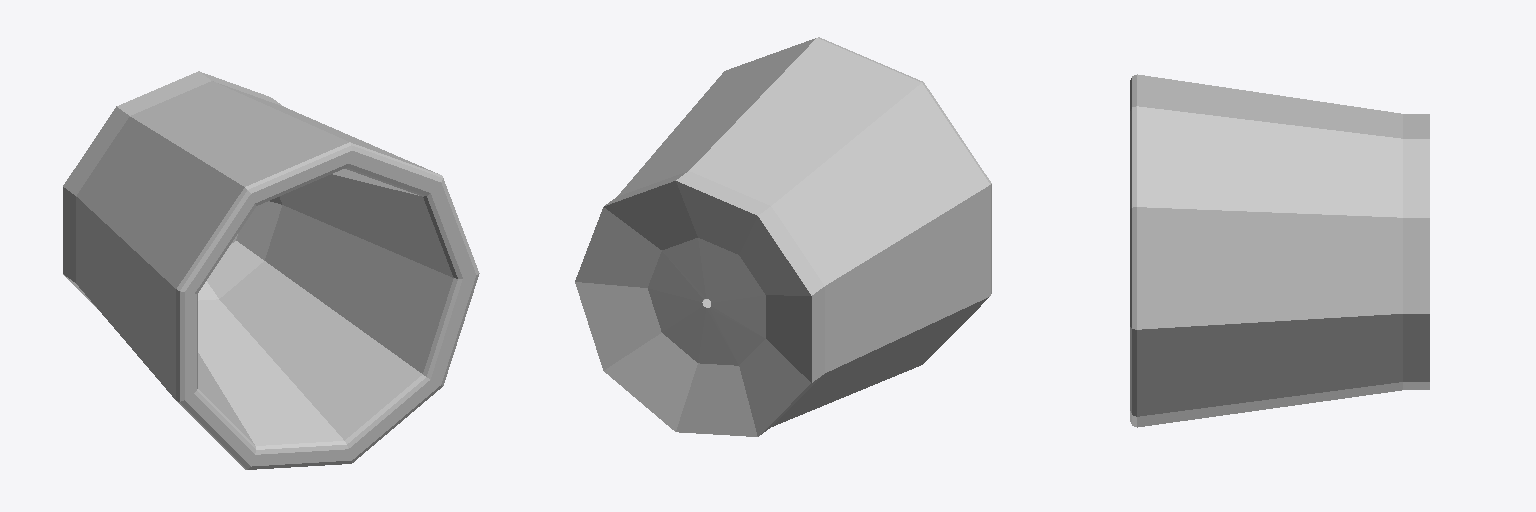
File: Plantpot.obj
The picture shows the model from 3 angles: view 1: azimuth 30°, elevation 25°; view 2: azimuth 150°, elevation 25°; view 3: azimuth 270°, elevation 25°; orthographic projection.
Visible parts, largest first — view 1: pPipe1; view 2: pPipe1; view 3: pPipe1.
Boxes of the visible parts, x1=… form: pPipe1: x1=63, y1=71, x2=479, y2=469; pPipe1: x1=575, y1=37, x2=991, y2=436; pPipe1: x1=1130, y1=74, x2=1429, y2=427.
Size of the model in its own units: 2.24 by 2.28 by 1.92.